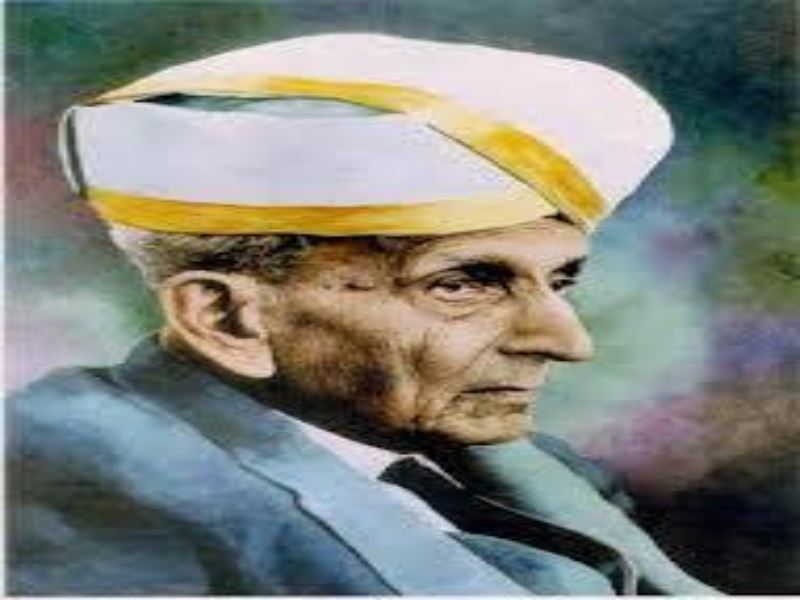person: (28, 28, 733, 591)
